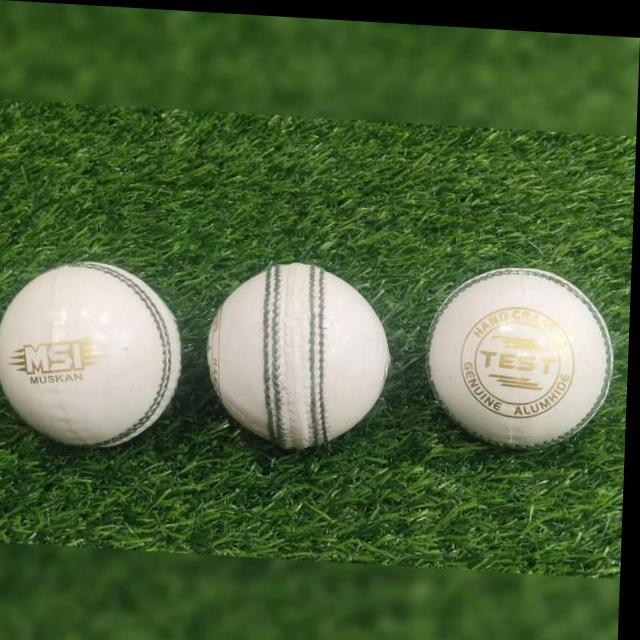cricket ball: (0, 259, 183, 448), (210, 259, 392, 445), (429, 262, 615, 442)
